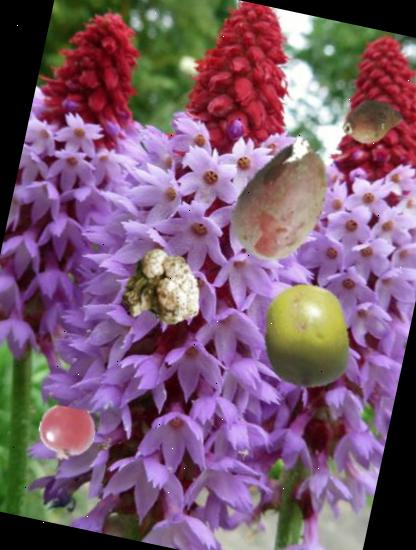Cauliflower: (111, 243, 209, 341)
Pomelo: (244, 272, 372, 400)
Potato: (204, 123, 362, 280), (334, 84, 410, 160)
Redcurrant: (33, 401, 99, 467)
